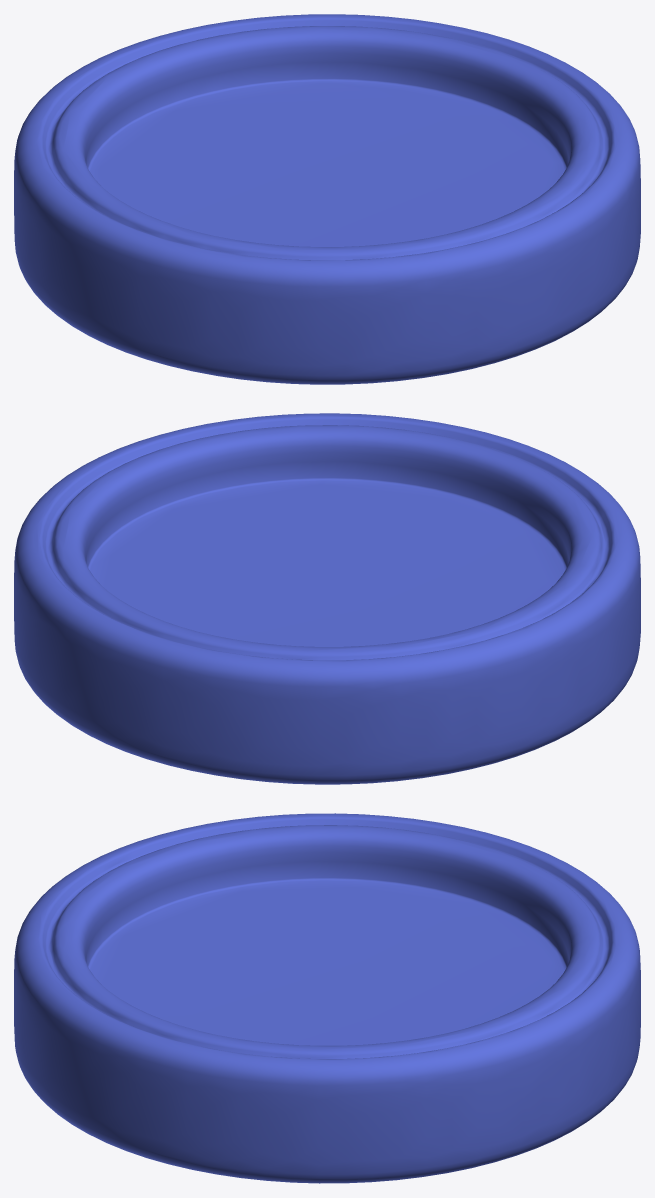
The model's file is baseModelB.glb.
The picture shows the model from 3 angles, top to bottom: view 1: azimuth 30°, elevation 25°; view 2: azimuth 150°, elevation 25°; view 3: azimuth 270°, elevation 25°; orthographic projection.
Visible parts, largest first — view 1: base; view 2: base; view 3: base.
Boxes of the visible parts, x1=… form: base: x1=14, y1=14, x2=640, y2=384; base: x1=14, y1=413, x2=640, y2=784; base: x1=14, y1=813, x2=640, y2=1183.
Bounding box in the file's own units: 1 × 0.2141 × 0.9999.
